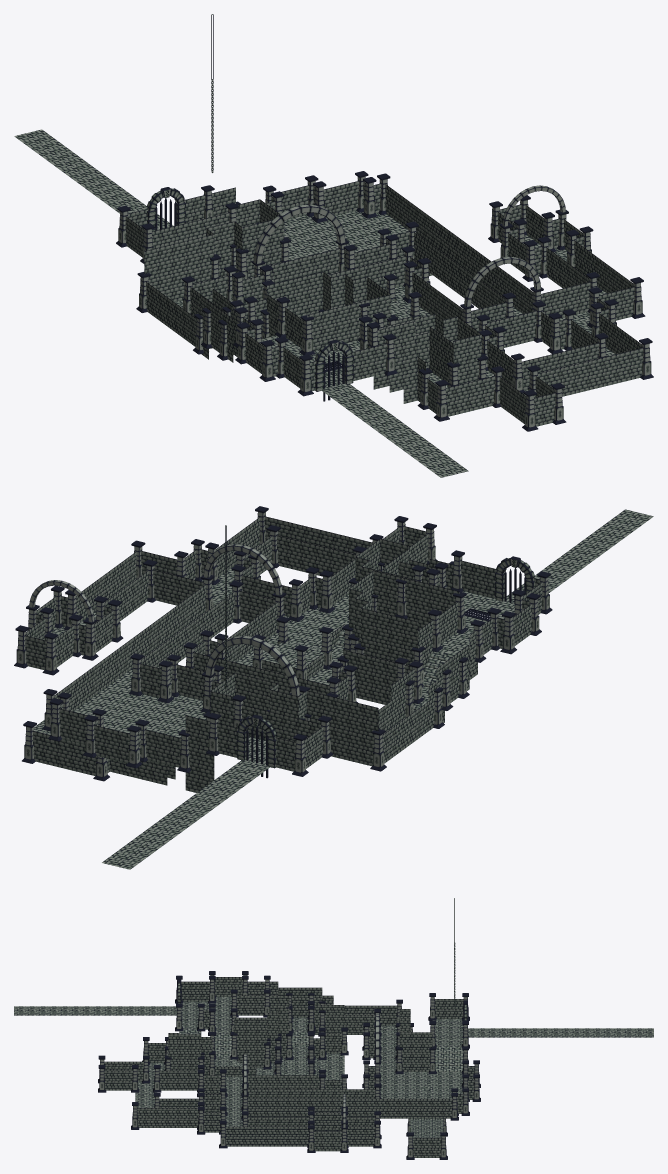
The model's file is Level4.fbx.
3 renders of one model, top to bottom at view 1: azimuth 30°, elevation 25°; view 2: azimuth 150°, elevation 25°; view 3: azimuth 270°, elevation 25°, orthographic. The views are drawn at different scales.
Visible parts, largest first — view 1: level4; view 2: level4; view 3: level4.
Part boxes in pixels (x1,y1,x2,y2): level4: (14,129,653,477); level4: (14,506,653,869); level4: (14,971,653,1159).
Bounding box in the file's own units: 144 × 96.88 × 290.
